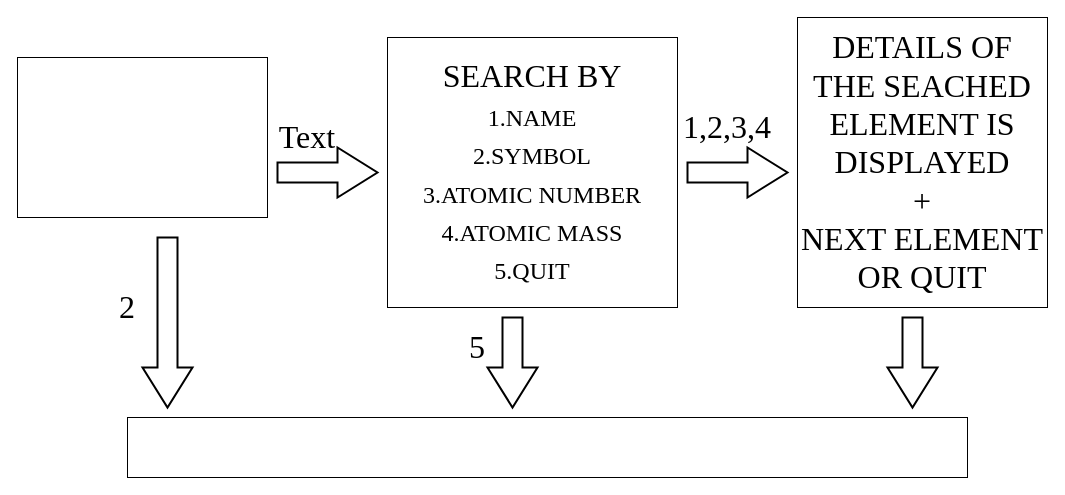
Some shapes in this 1065 by 495 pixel diagram are drawn without their labels. The centre of each missing label's shape, as x and y in pixels:
EXIT THE PROGRAM: (547,447)
MAIN DISPLAY 1.EXPLORE 2.QUIT: (142,137)
